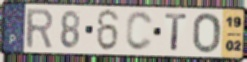6: (96, 9, 121, 53)
8: (59, 9, 81, 50)
C: (124, 10, 155, 53)
O: (192, 12, 222, 55)
R: (25, 7, 55, 50)
T: (164, 12, 188, 52)
